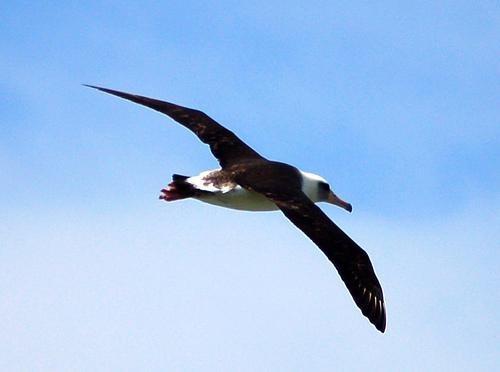bird: (84, 79, 388, 337)
